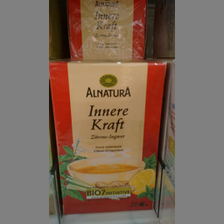tea: (49, 59, 166, 215)
